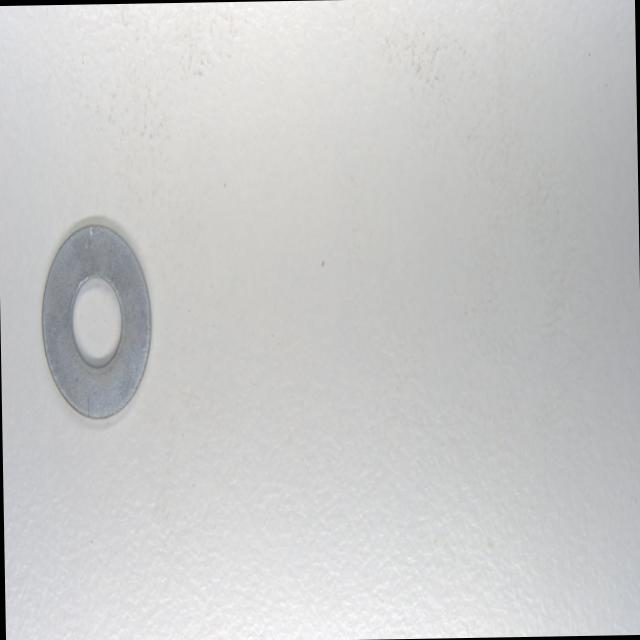washer: (38, 222, 156, 424)
